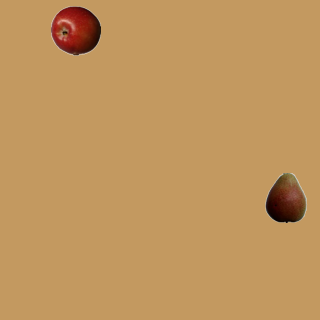Apple Braeburn: (50, 5, 100, 55)
Pear Forelle: (260, 172, 310, 222)
